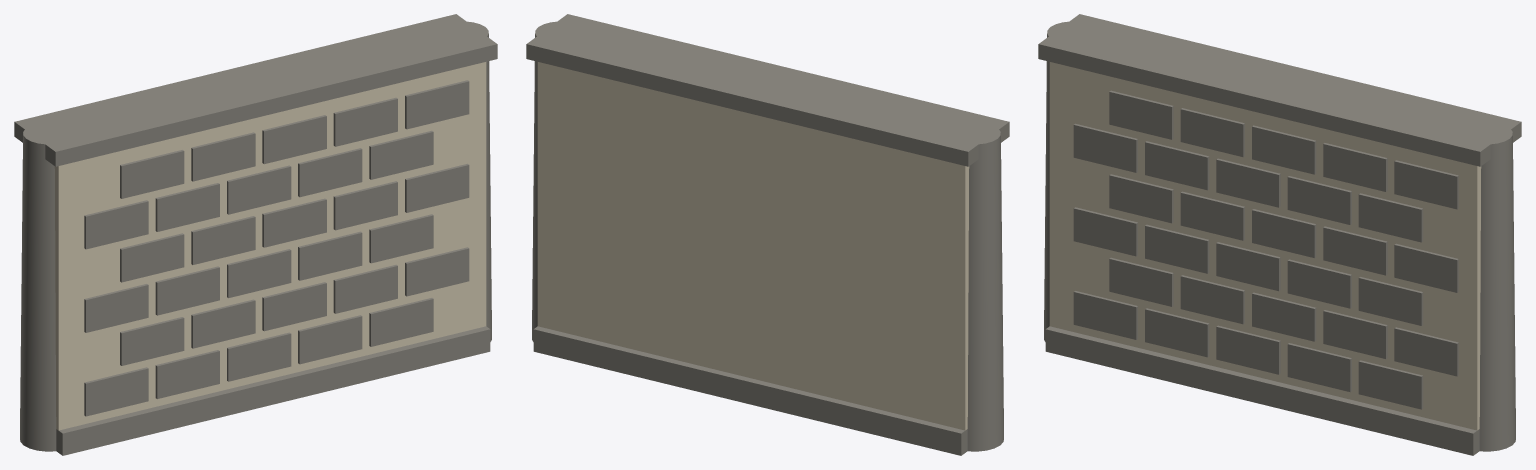
Rendered from stone-wall-lod0.glb.
3 views of the same model, side by side, from view 1: azimuth 30°, elevation 25°; view 2: azimuth 150°, elevation 25°; view 3: azimuth 330°, elevation 25° (orthographic).
Visible parts, largest first — view 1: body, coping, pier (×2), footing, block-4-0, block-2-4, block-4-3, block-0-0, block-0-1, block-1-4, block-5-3, block-0-4 (+22 smaller); view 2: body, coping, pier (×2), footing; view 3: body, coping, pier (×2), footing, block-0-4, block-2-4, block-4-4, block-1-4, block-2-1, block-4-2, block-0-1, block-1-1 (+22 smaller).
Part boxes in pixels (x1=…): body: x1=54, y1=62, x2=486, y2=430; coping: x1=14, y1=14, x2=497, y2=166; pier (×2): x1=20, y1=21, x2=491, y2=451; footing: x1=56, y1=326, x2=490, y2=455; block-4-0: x1=84, y1=200, x2=148, y2=249; block-2-4: x1=369, y1=214, x2=433, y2=263; block-4-3: x1=298, y1=148, x2=362, y2=197; block-0-0: x1=84, y1=367, x2=148, y2=416; block-0-1: x1=155, y1=350, x2=219, y2=398; block-1-4: x1=405, y1=247, x2=469, y2=296; block-5-3: x1=333, y1=97, x2=397, y2=146; block-0-4: x1=369, y1=298, x2=433, y2=346; body: x1=537, y1=62, x2=969, y2=430; coping: x1=526, y1=14, x2=1009, y2=166; pier (×2): x1=532, y1=21, x2=1003, y2=451; footing: x1=533, y1=326, x2=967, y2=455; body: x1=1049, y1=62, x2=1481, y2=430; coping: x1=1038, y1=14, x2=1521, y2=166; pier (×2): x1=1044, y1=21, x2=1515, y2=451; footing: x1=1045, y1=326, x2=1479, y2=455; block-0-4: x1=1358, y1=360, x2=1423, y2=409; block-2-4: x1=1358, y1=277, x2=1423, y2=325; block-4-4: x1=1358, y1=193, x2=1423, y2=242; block-1-4: x1=1394, y1=327, x2=1458, y2=376; block-2-1: x1=1145, y1=224, x2=1209, y2=273; block-4-2: x1=1216, y1=158, x2=1280, y2=207; block-0-1: x1=1145, y1=308, x2=1209, y2=357; block-1-1: x1=1180, y1=275, x2=1244, y2=324.
Bounding box in the file's own units: 3.26 × 2.05 × 0.5.
